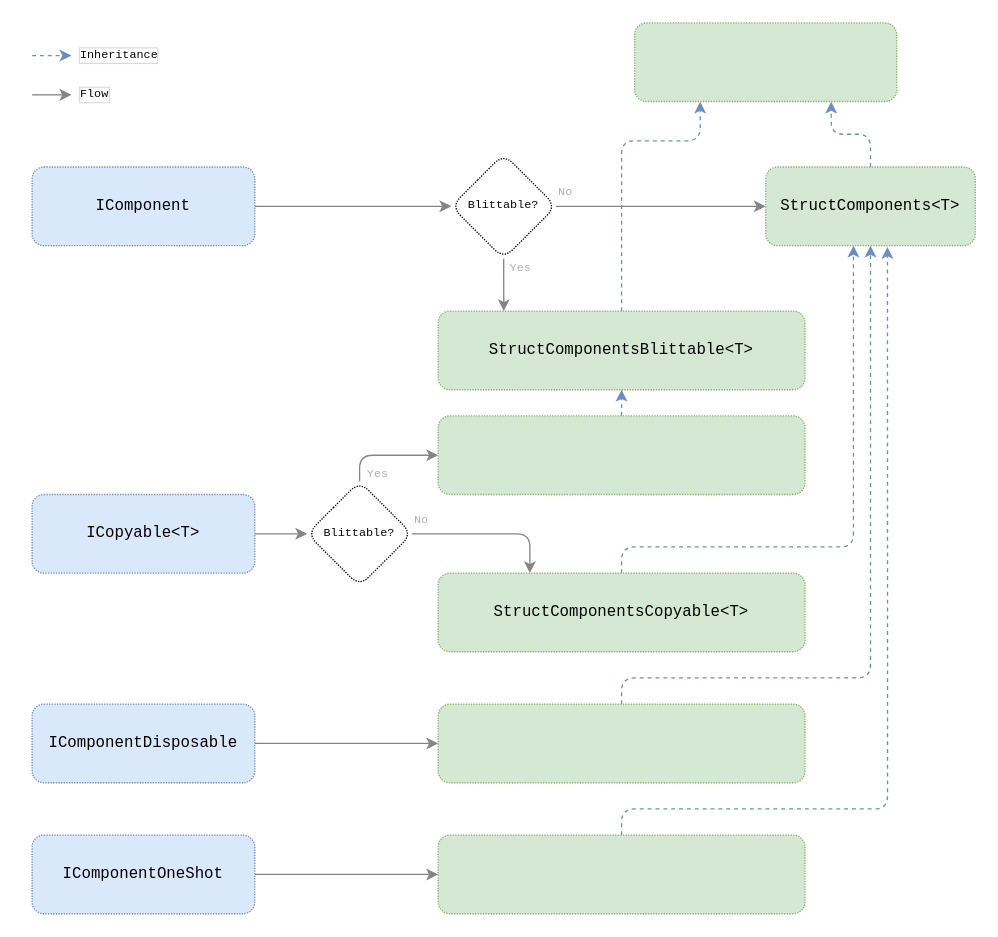
Some shapes in this 998 by 937 pixel diagram are drawn without their labels. Each missing label, with the centre of its shape:
StructComponentsBase<T>: point (765, 62)
StructComponentsBlittableCopyable<T>: point (621, 455)
StructComponentsDisposable<T>: point (621, 743)
StructComponentsOneShot<T>: point (621, 874)
